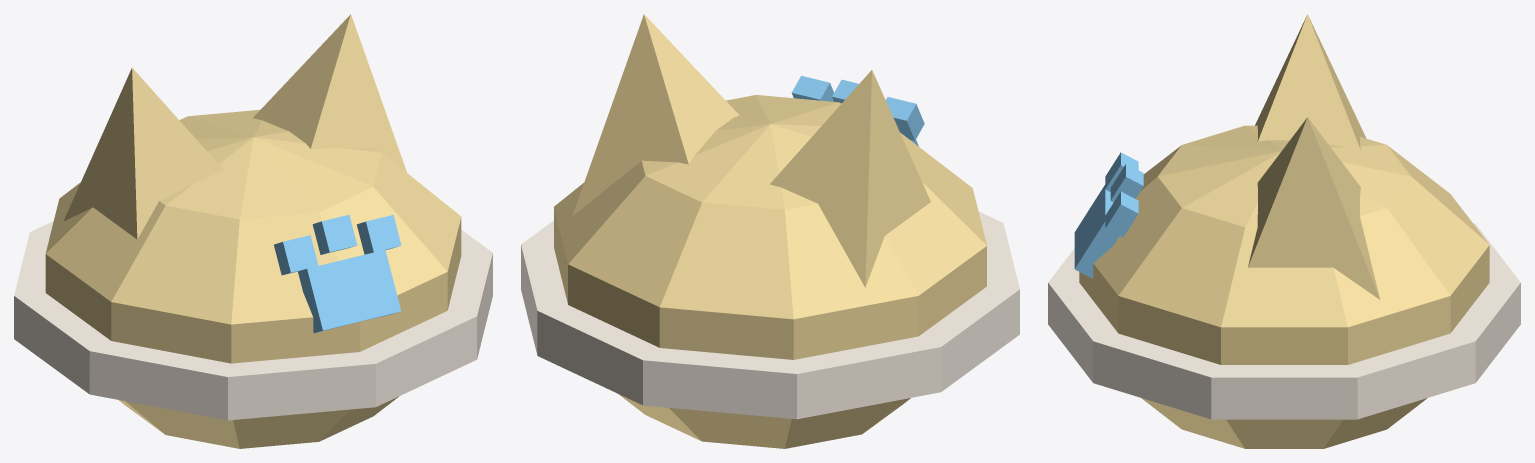
The model's file is CleanACat_Prop_HelperCap3.fbx.
3 renders of one model, left to right at view 1: azimuth 30°, elevation 25°; view 2: azimuth 150°, elevation 25°; view 3: azimuth 270°, elevation 25°, orthographic. The views are drawn at different scales.
Visible parts, largest first — view 1: CleanACat_Prop_HelperCap3; view 2: CleanACat_Prop_HelperCap3; view 3: CleanACat_Prop_HelperCap3.
Part boxes in pixels (x1=…): CleanACat_Prop_HelperCap3: x1=14, y1=14, x2=492, y2=448; CleanACat_Prop_HelperCap3: x1=521, y1=14, x2=1019, y2=448; CleanACat_Prop_HelperCap3: x1=1048, y1=14, x2=1520, y2=448.
Size of the model in its own units: 1.09 by 0.9626 by 1.15.
Materials: 1 (1 with a texture image).
